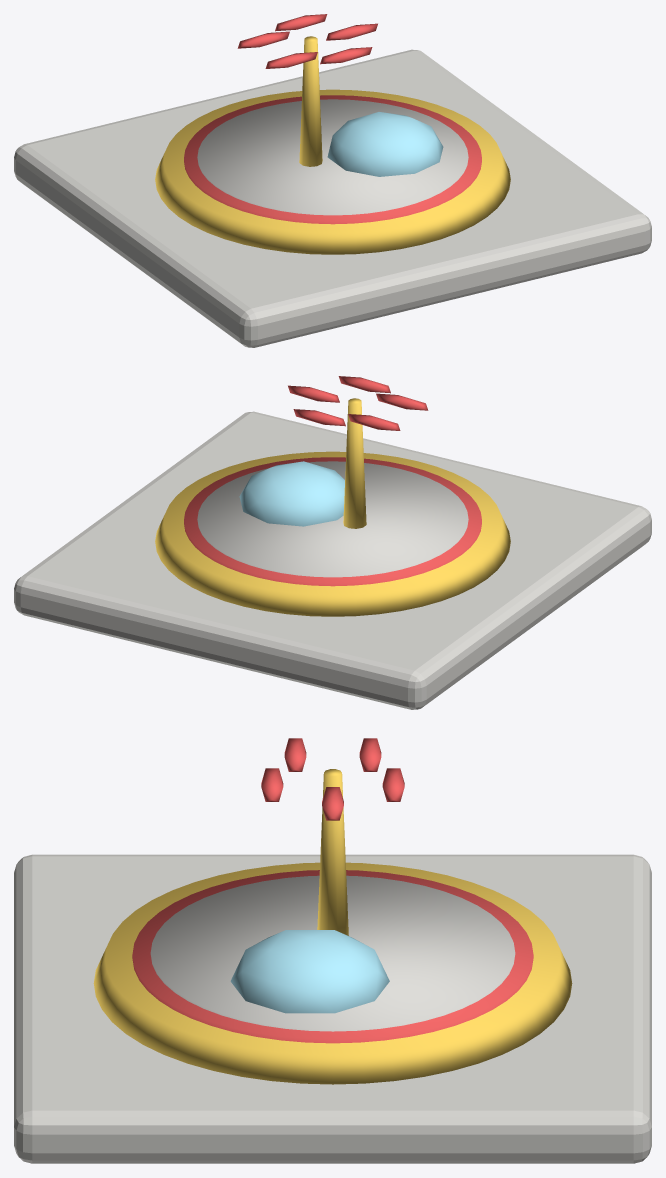
Rendered from Tile_Corner_Island.fbx.
3 renders of one model, top to bottom at view 1: azimuth 30°, elevation 25°; view 2: azimuth 150°, elevation 25°; view 3: azimuth 270°, elevation 25°, orthographic. The views are drawn at different scales.
Visible parts, largest first — view 1: Tile_Corner_Island; view 2: Tile_Corner_Island; view 3: Tile_Corner_Island.
Part boxes in pixels (bbox=[...]): Tile_Corner_Island: bbox=[14, 14, 651, 347]; Tile_Corner_Island: bbox=[14, 376, 651, 709]; Tile_Corner_Island: bbox=[14, 738, 651, 1163].
Bounding box in the file's own units: 2.8 × 1.21 × 2.8.
